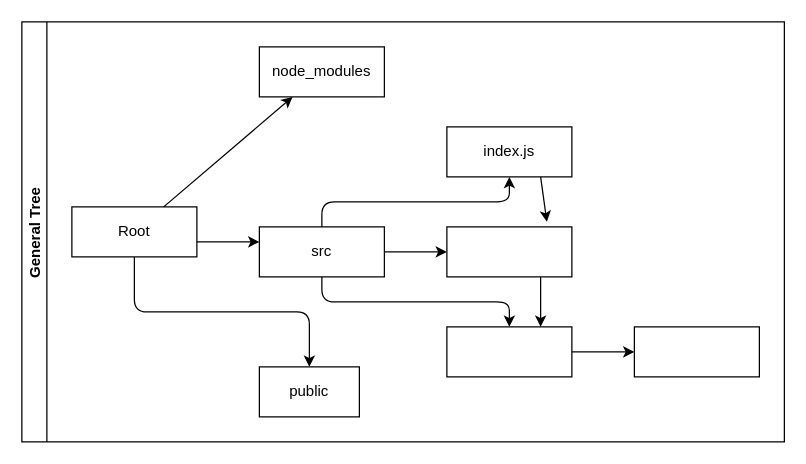
Some shapes in this 806 by 464 pixel diagram are drawn without their labels. Each missing label, with the centre of its shape:
App.js: (x=509, y=251)
Chatbot.js: (x=696, y=351)
components: (x=509, y=351)
